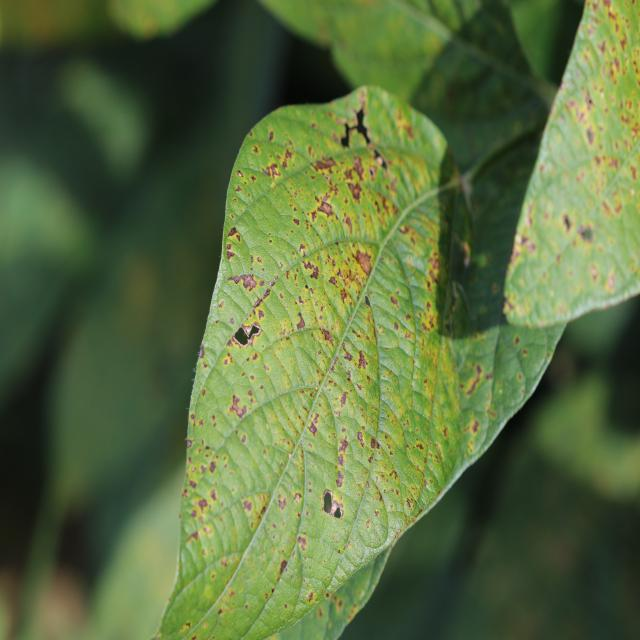Bacterial_Blight: (602, 1, 630, 47), (511, 230, 539, 262), (351, 245, 376, 279), (617, 94, 640, 127), (232, 321, 261, 346), (463, 364, 484, 396), (322, 489, 344, 519), (394, 109, 415, 140), (593, 151, 617, 177), (600, 196, 623, 219), (228, 394, 247, 419), (311, 156, 337, 172), (605, 58, 620, 83), (261, 161, 281, 179), (351, 155, 365, 180), (317, 199, 334, 217), (241, 274, 258, 292), (578, 224, 594, 242), (374, 149, 387, 169), (605, 269, 616, 292), (227, 226, 241, 244), (461, 239, 471, 262), (357, 351, 368, 370), (321, 328, 334, 344), (338, 438, 349, 455), (585, 127, 595, 145), (309, 264, 320, 280), (590, 263, 599, 282), (308, 418, 318, 435), (562, 214, 572, 231), (277, 494, 287, 510), (297, 535, 307, 551), (329, 357, 339, 373), (186, 531, 198, 544), (227, 275, 241, 286), (356, 431, 365, 448), (296, 316, 306, 331), (598, 40, 608, 55), (279, 559, 288, 575), (336, 470, 344, 488), (339, 288, 348, 304), (343, 349, 353, 363), (197, 498, 208, 510), (586, 94, 594, 108), (198, 344, 205, 360), (364, 294, 372, 308), (293, 492, 302, 504), (243, 500, 252, 512), (390, 296, 399, 307), (472, 420, 479, 433), (188, 479, 197, 489), (257, 309, 265, 320), (223, 355, 231, 366), (209, 461, 216, 473), (370, 437, 376, 450), (190, 413, 196, 425), (236, 169, 244, 178), (406, 497, 412, 509), (217, 300, 224, 310), (268, 131, 274, 142), (293, 218, 300, 227), (241, 434, 247, 443), (394, 321, 399, 331), (366, 519, 371, 528), (185, 621, 191, 628), (230, 317, 235, 325), (264, 364, 269, 371), (248, 390, 253, 397), (250, 374, 255, 381)
Soybean: (157, 87, 564, 640)
